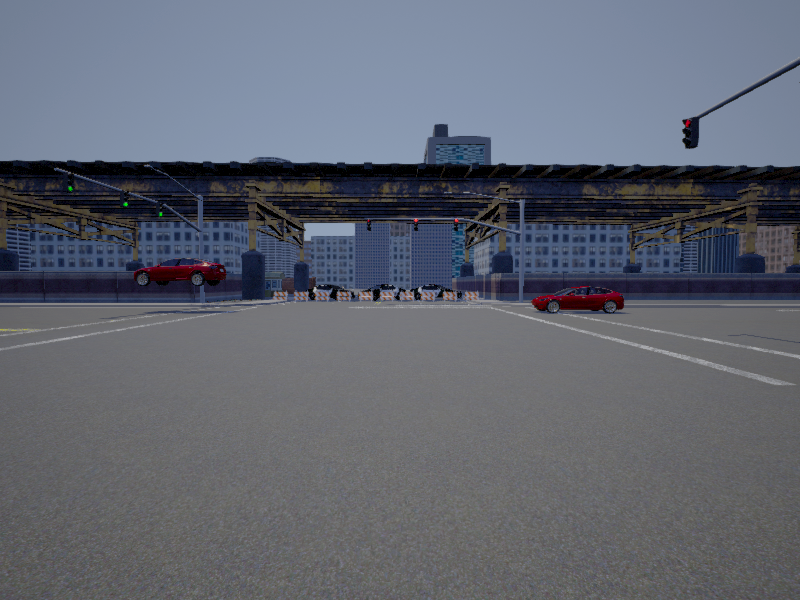Attacker: (132, 259, 224, 285)
Benign: (532, 285, 626, 313)
